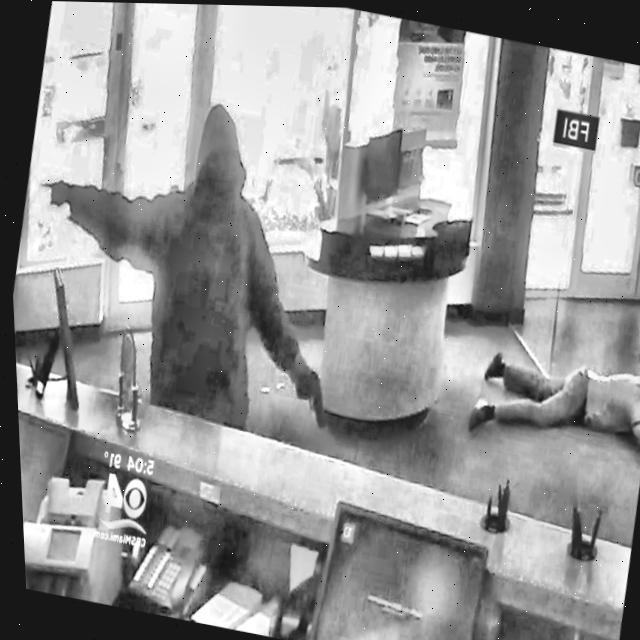robbery: (38, 88, 640, 459)
